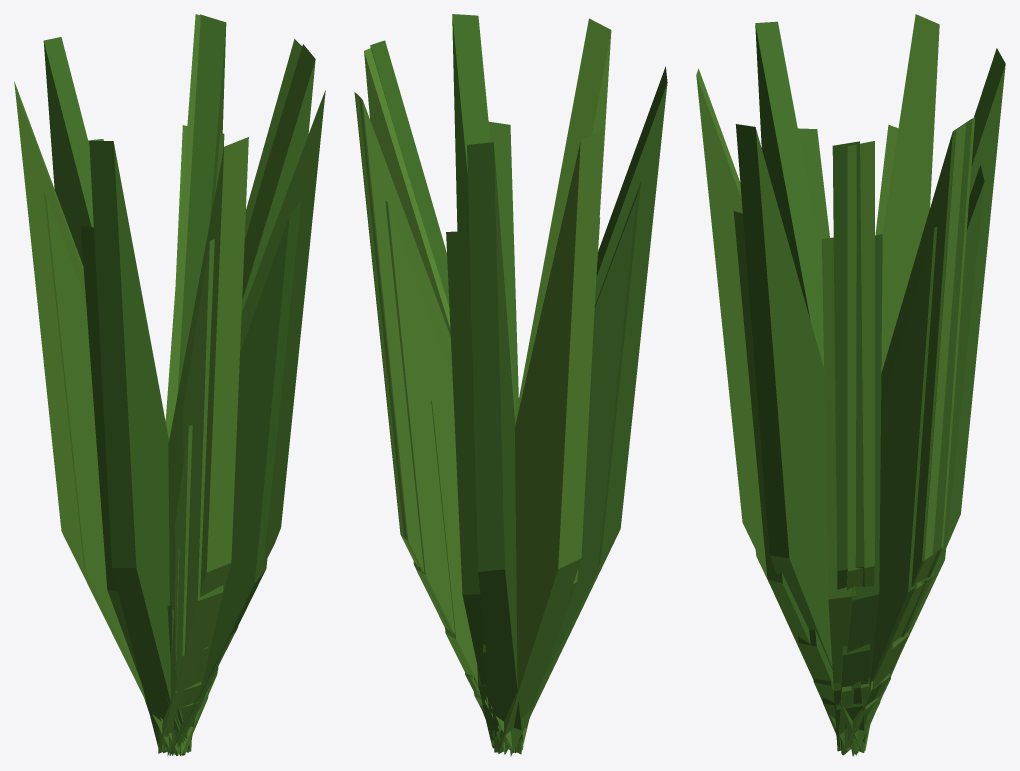
The model's file is Crop_Crop_Ginger.fbx.
3 views of the same model, side by side, from view 1: azimuth 30°, elevation 25°; view 2: azimuth 150°, elevation 25°; view 3: azimuth 270°, elevation 25° (orthographic).
Visible parts, largest first — view 1: Crop_Crop_Ginger__S4, Crop_Crop_Ginger__S3, Crop_Crop_Ginger__S2, Crop_Crop_Ginger__S5, Crop_Crop_Ginger__S1; view 2: Crop_Crop_Ginger__S4, Crop_Crop_Ginger__S3, Crop_Crop_Ginger__S2; view 3: Crop_Crop_Ginger__S4, Crop_Crop_Ginger__S3, Crop_Crop_Ginger__S2, Crop_Crop_Ginger__S5, Crop_Crop_Ginger__S1.
Part boxes in pixels (box(x1,y1,x2,y2)): Crop_Crop_Ginger__S4: box(14, 14, 325, 755); Crop_Crop_Ginger__S3: box(44, 125, 300, 755); Crop_Crop_Ginger__S2: box(117, 425, 238, 755); Crop_Crop_Ginger__S5: box(171, 549, 218, 755); Crop_Crop_Ginger__S1: box(167, 605, 208, 755); Crop_Crop_Ginger__S4: box(354, 14, 667, 756); Crop_Crop_Ginger__S3: box(385, 121, 640, 754); Crop_Crop_Ginger__S2: box(431, 400, 516, 754); Crop_Crop_Ginger__S4: box(696, 14, 1005, 753); Crop_Crop_Ginger__S3: box(733, 124, 984, 753); Crop_Crop_Ginger__S2: box(798, 629, 909, 755); Crop_Crop_Ginger__S5: box(813, 673, 891, 755); Crop_Crop_Ginger__S1: box(822, 694, 881, 756).
Bounding box in the file's own units: 0.0866 × 0.2136 × 0.089.
